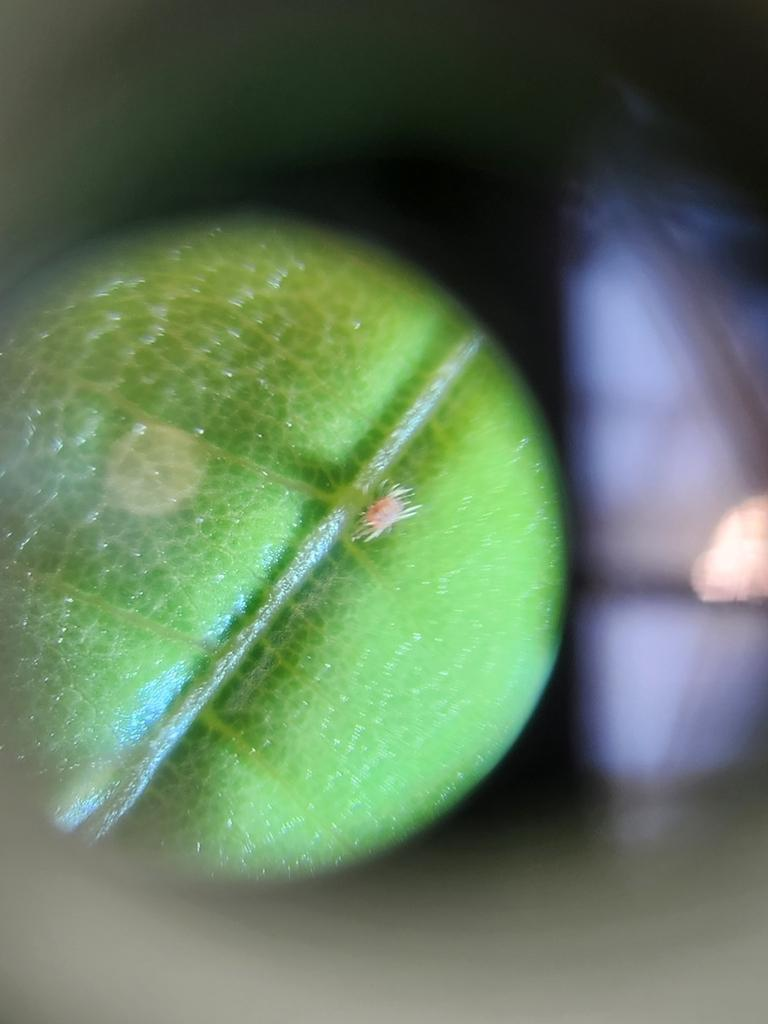tiny_pests: (331, 461, 433, 567)
